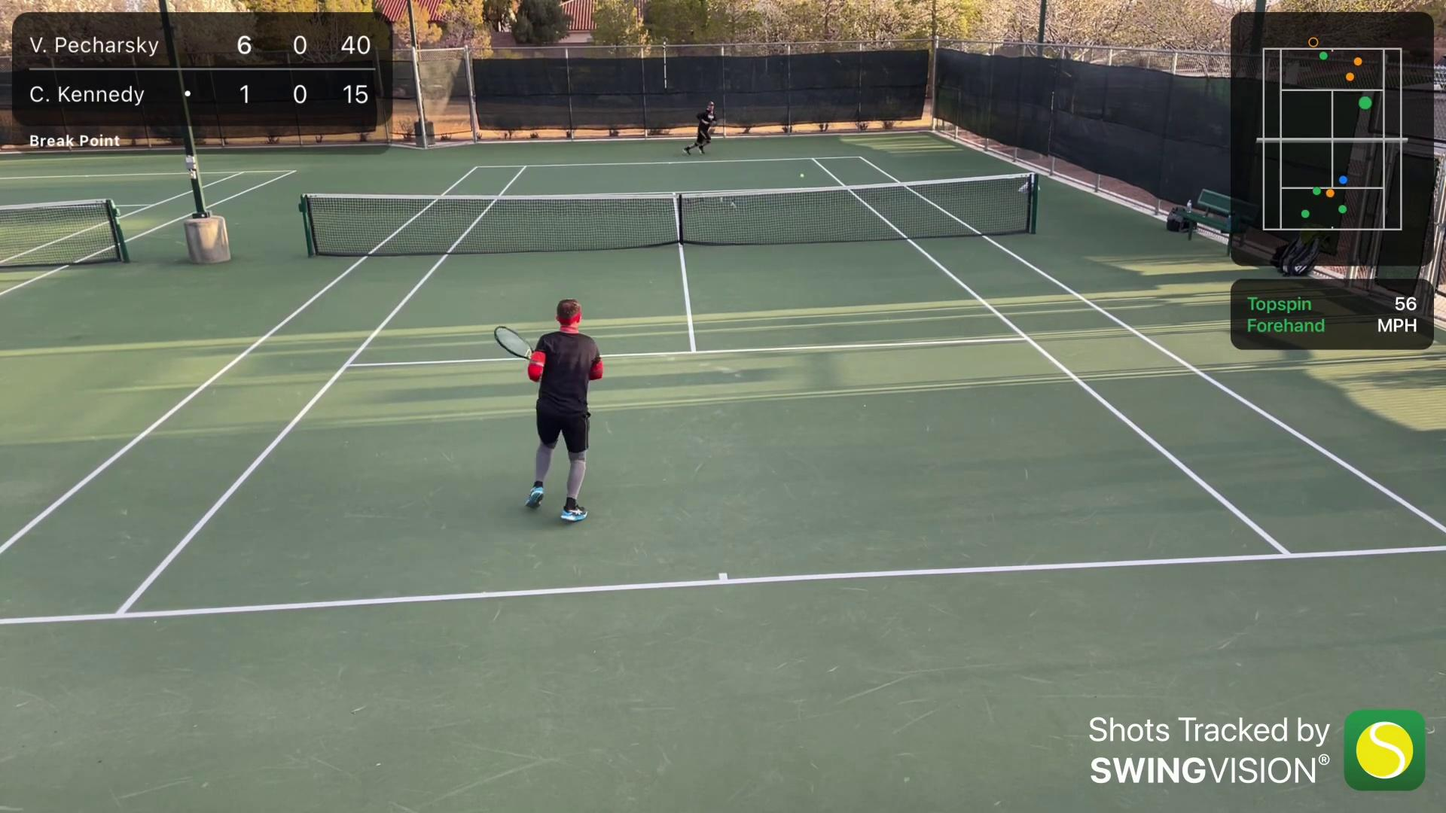ball: (798, 171, 806, 178)
